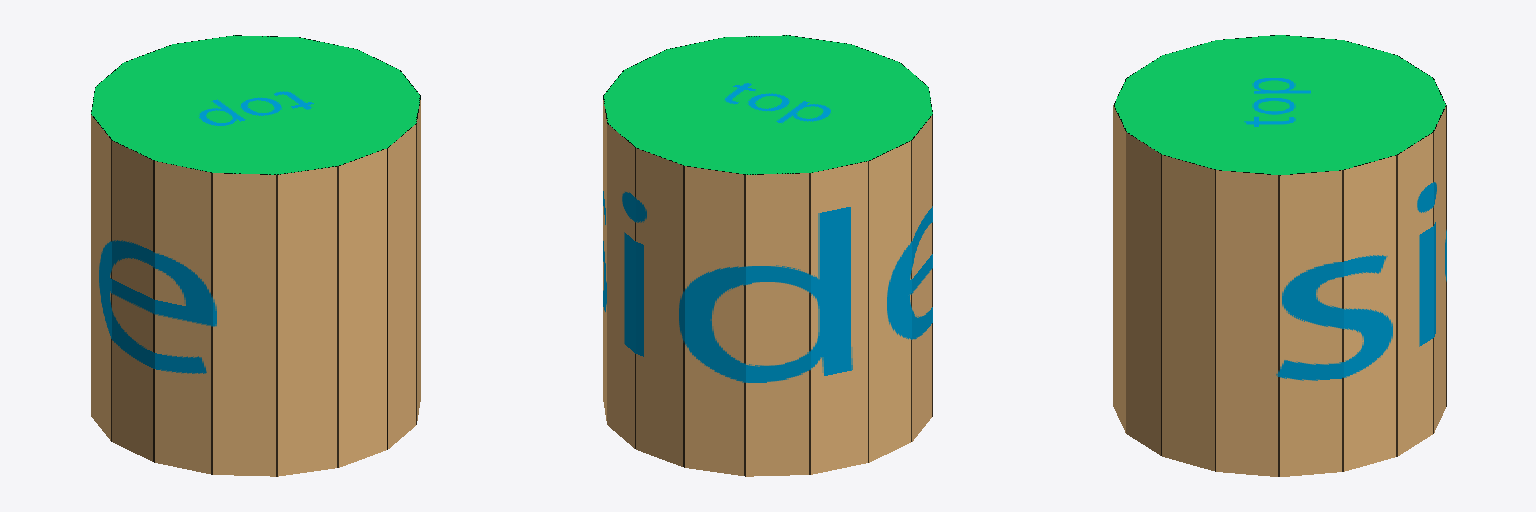
The picture shows the model from 3 angles: view 1: azimuth 30°, elevation 25°; view 2: azimuth 150°, elevation 25°; view 3: azimuth 270°, elevation 25°; orthographic projection.
Parts seen in each view (by area): view 1: cylinder1; view 2: cylinder1; view 3: cylinder1.
Boxes of the visible parts, box(x1,y1,x2,y2) form: cylinder1: box(91, 35, 420, 476); cylinder1: box(603, 35, 932, 476); cylinder1: box(1113, 35, 1446, 476).
Bounding box in the file's own units: 2 × 2 × 2.
1 materials, 1 textured.